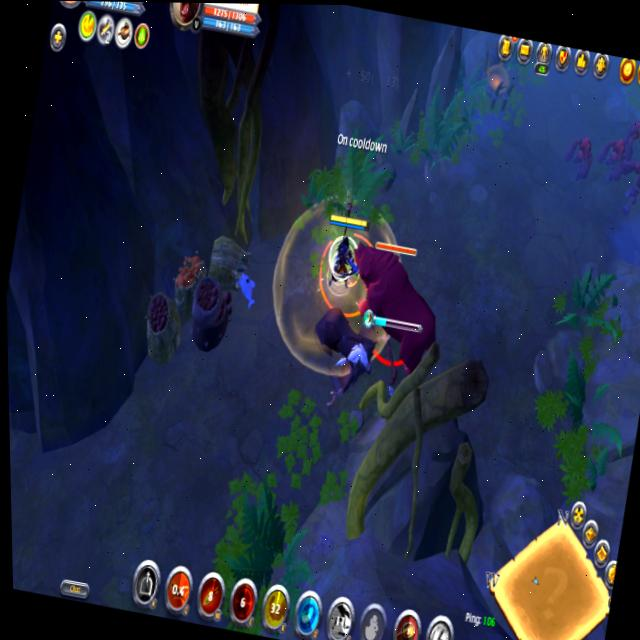ore: (342, 229, 451, 392), (560, 127, 598, 190), (614, 149, 640, 228), (593, 134, 630, 181), (620, 104, 640, 155)
red: (315, 208, 374, 298)
silver: (310, 229, 381, 320)
